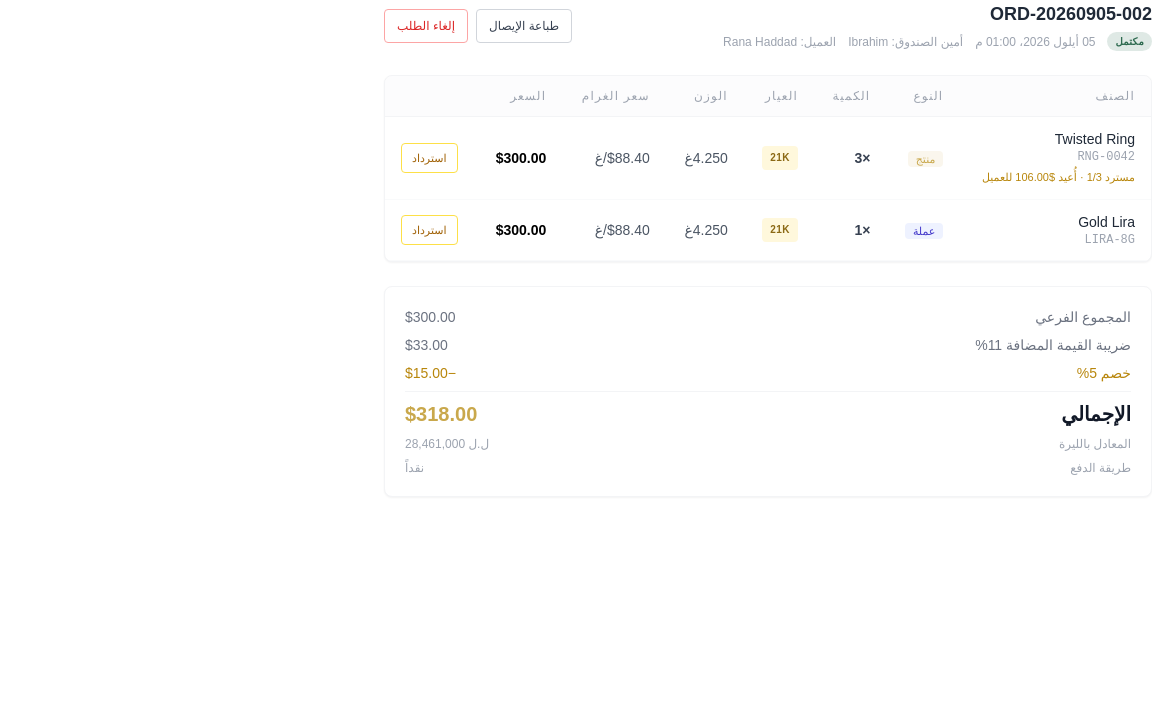
Scenario: order detail in Arabic (NEX-64) › refund dialog: the quantity field is reachable by its label, and the label's control is the field
The width and height of the screenshot is (1152, 720).
Click the button "استرداد" in the row of "Twisted Ring". click: (429, 158)
box: [401,143,458,173]
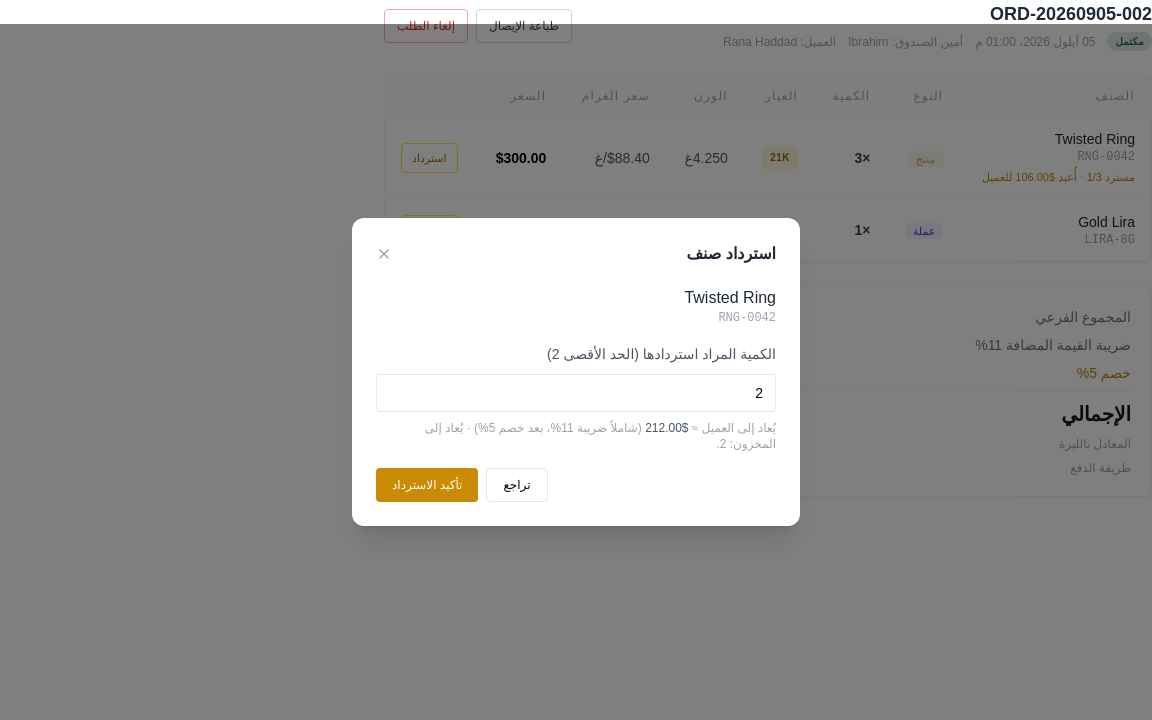
expect the number of labels is 1: met, box [376,342,776,412]
expect the heading "استرداد صنف" is shown: met, box [686,242,776,266]
expect the button "تأكيد الاسترداد" is shown: met, box [376,468,478,502]
